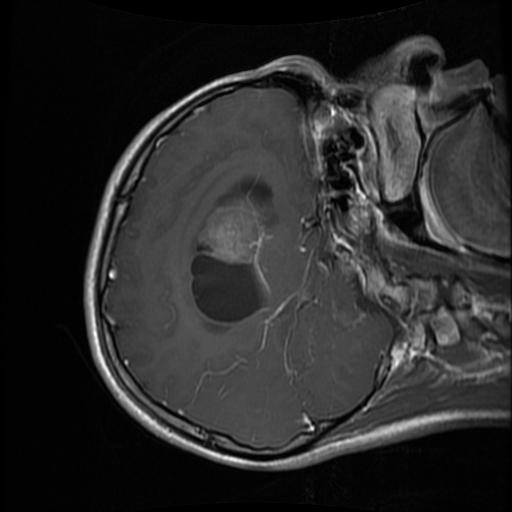glioma: (189, 175, 274, 323)
